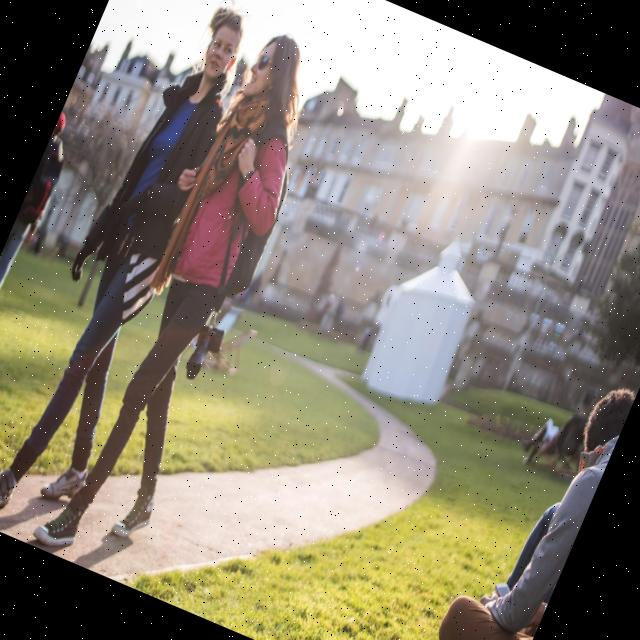Person: (29, 18, 346, 574), (0, 0, 281, 533), (410, 356, 637, 640), (0, 114, 81, 337)
